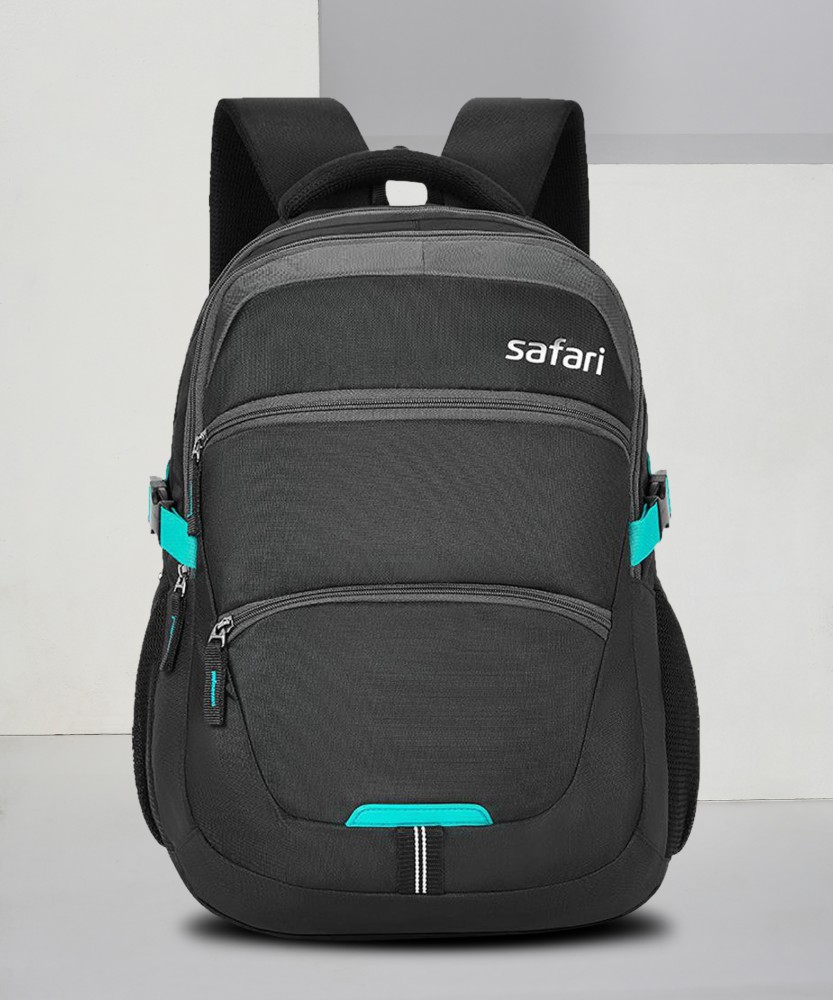backpack: (131, 100, 701, 942)
